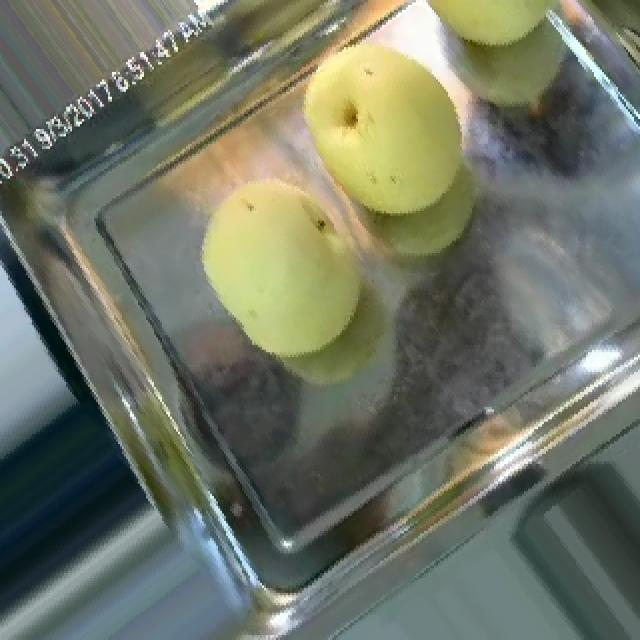Fruit: (164, 142, 400, 380), (270, 5, 506, 243)
